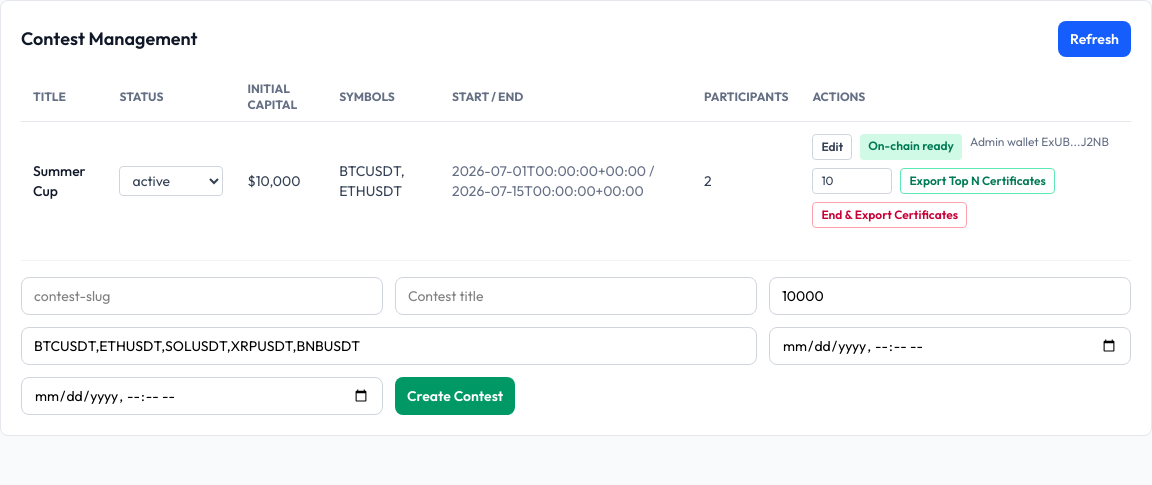
Test: TabContests › labels the failing step when end and export fails
Click the button with test id "end-export-summer-cup" at (890, 215), box [812,202,967,228]
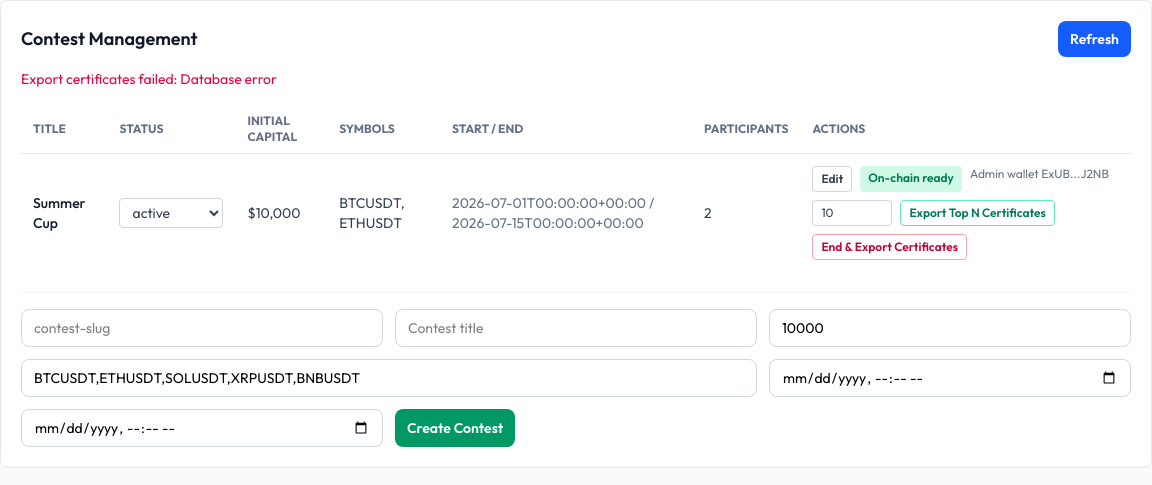
expect the text "Export certificates failed: Database error" is shown: met, box [21,70,277,88]
